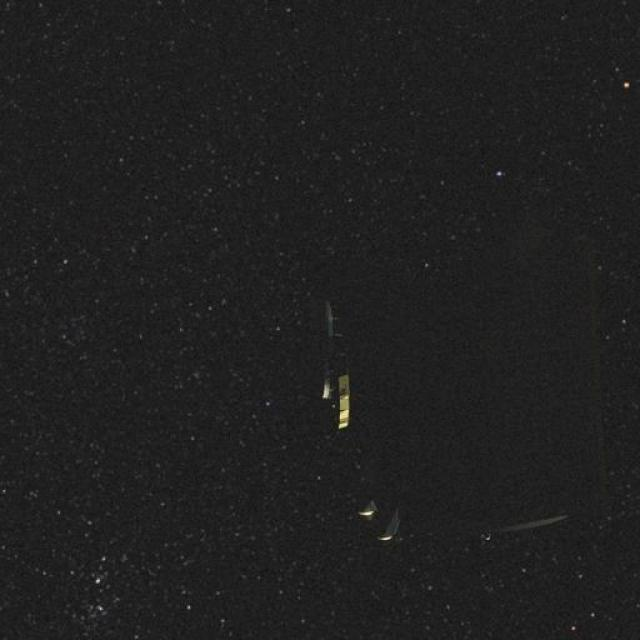cheops: (307, 256, 565, 548)
